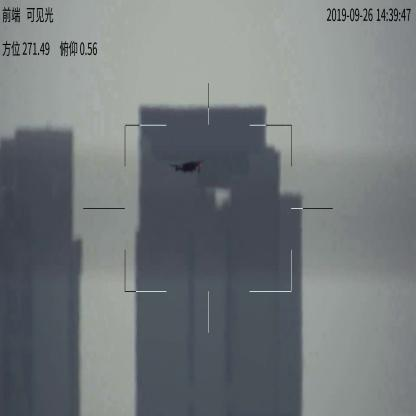uav: (169, 157, 203, 177)
